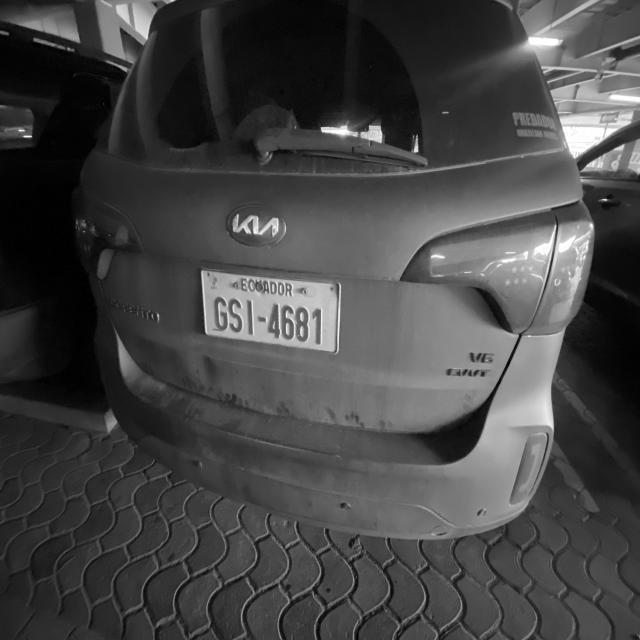Placa: (202, 270, 339, 352)
